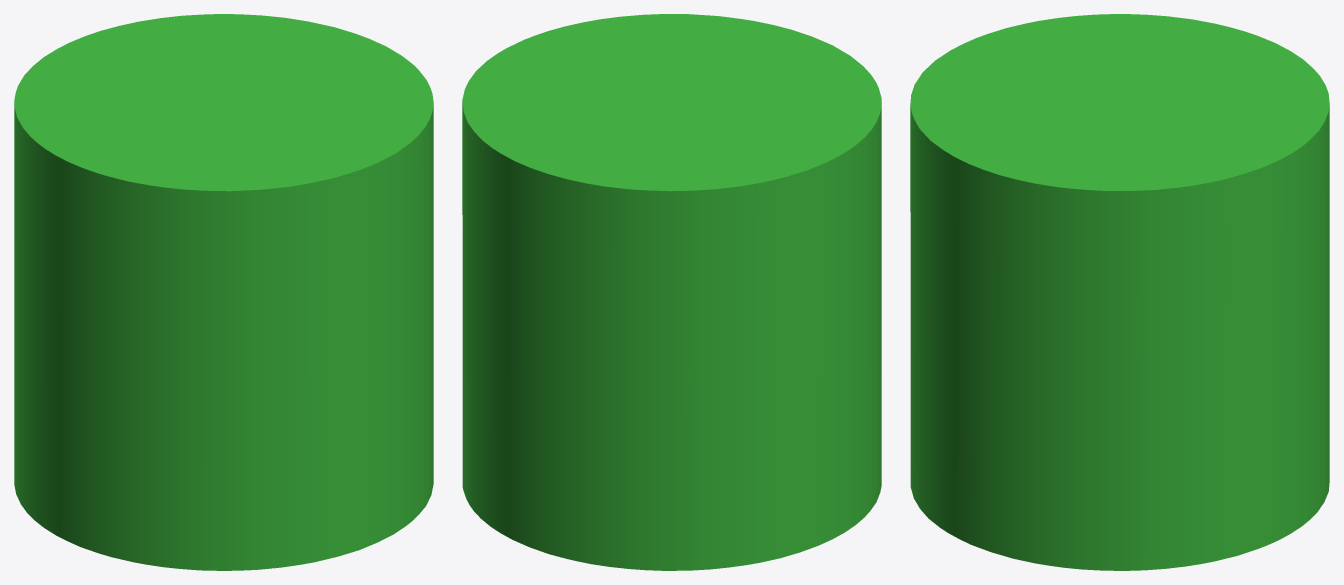
3 renders of one model, left to right at view 1: azimuth 30°, elevation 25°; view 2: azimuth 150°, elevation 25°; view 3: azimuth 270°, elevation 25°, orthographic.
Visible parts, largest first — view 1: SM_Cylinder; view 2: SM_Cylinder; view 3: SM_Cylinder.
Part boxes in pixels (x1=…): SM_Cylinder: x1=14, y1=14, x2=433, y2=570; SM_Cylinder: x1=462, y1=14, x2=881, y2=570; SM_Cylinder: x1=910, y1=14, x2=1329, y2=570.
Size of the model in its own units: 1 by 1 by 1.
